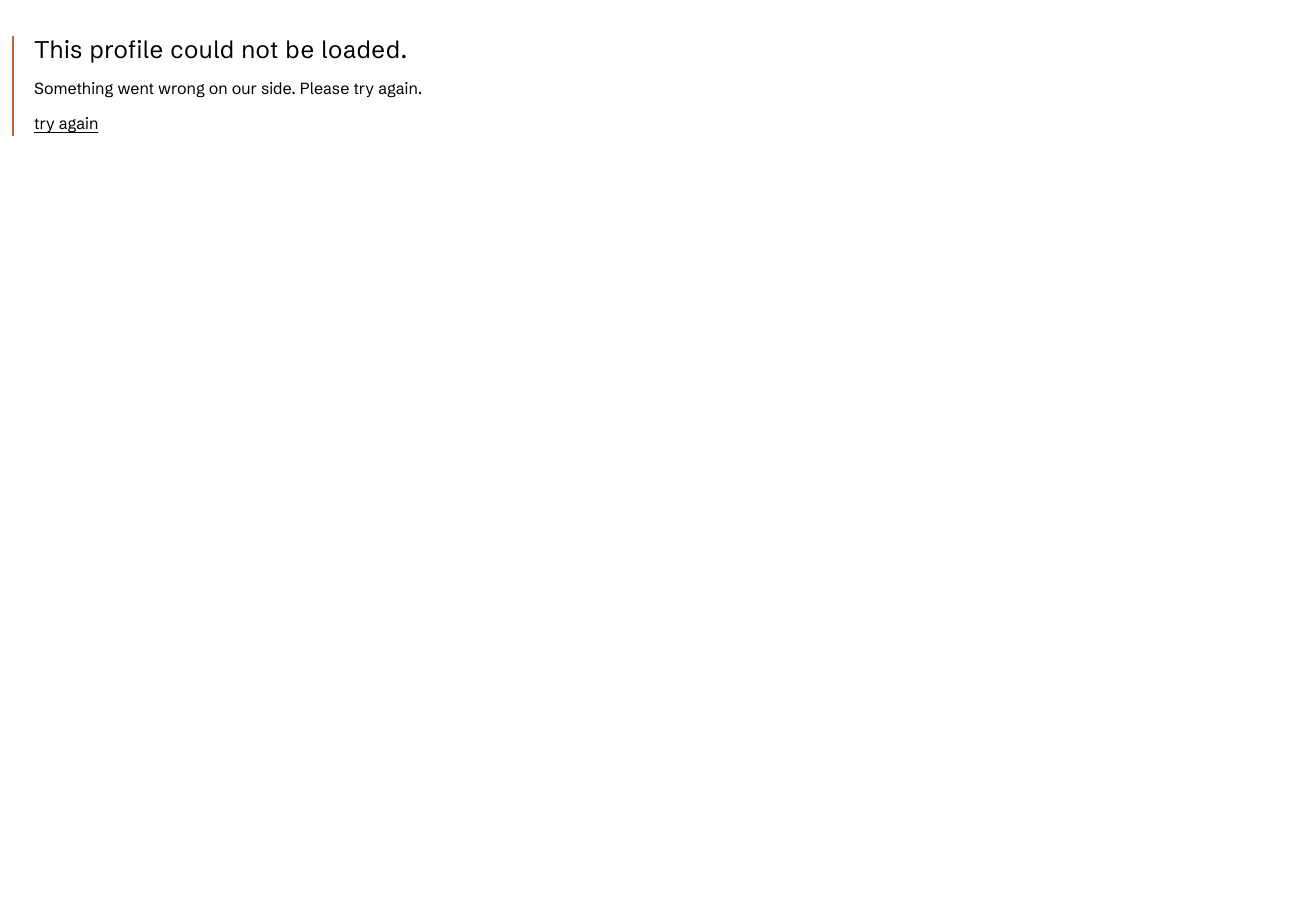
Scenario: UserProfilePage (F-40–F-44) › B-82: any other failure shows an error with "try again" and recovers
Expected: the message shows "This profile could not be loaded.", [34,35,408,64]
Click the button "try again": (66, 124) [34,112,98,136]
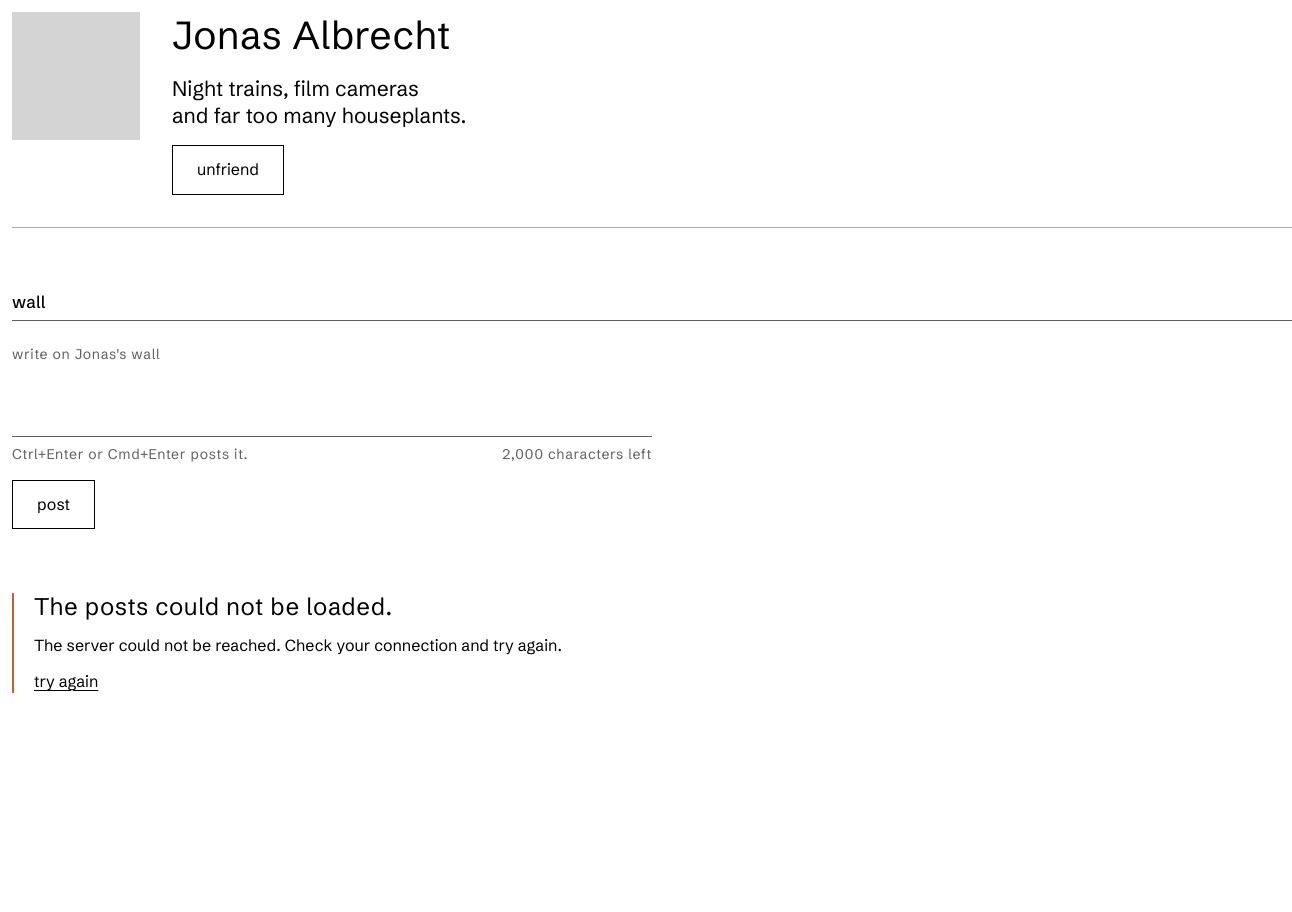
Result: the heading "Jonas Albrecht" is shown at [172,12,451,59]
